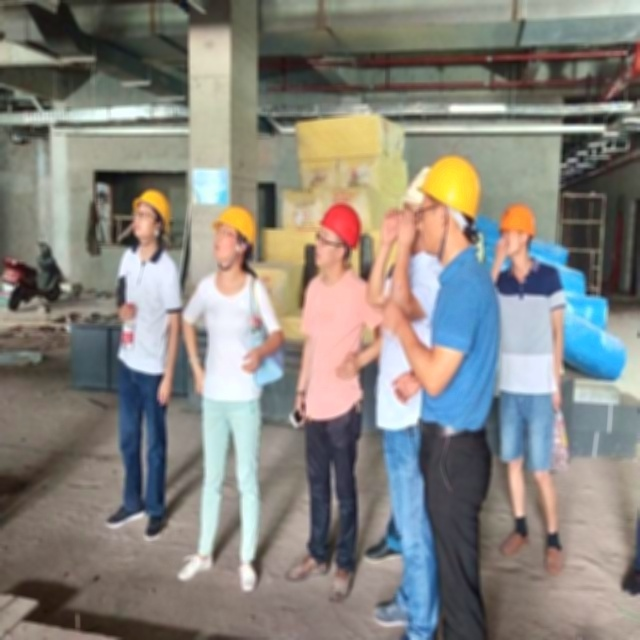Con_Casco: (313, 201, 360, 274), (211, 204, 256, 267), (133, 188, 172, 243)
Sin_Chaleco: (300, 272, 371, 416), (116, 243, 180, 376), (200, 271, 264, 399)
